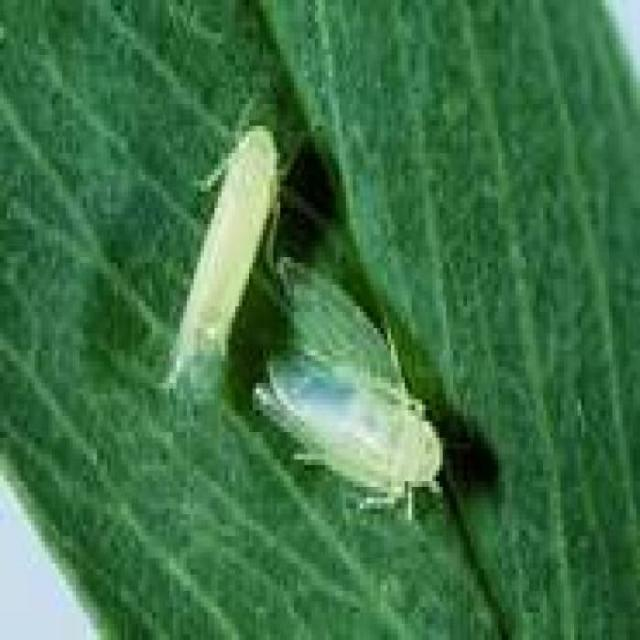Yechan: (232, 270, 466, 521), (152, 96, 284, 420)
